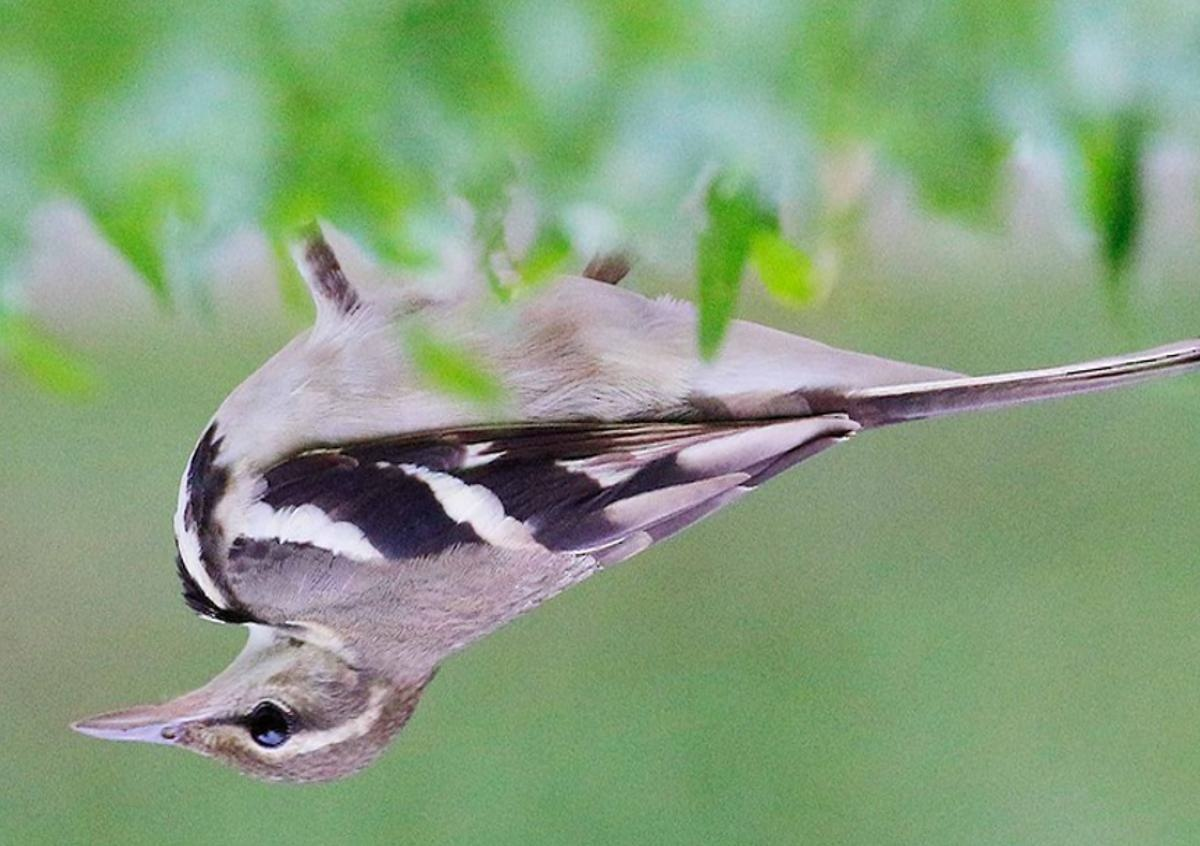wagtail: (80, 253, 948, 780)
